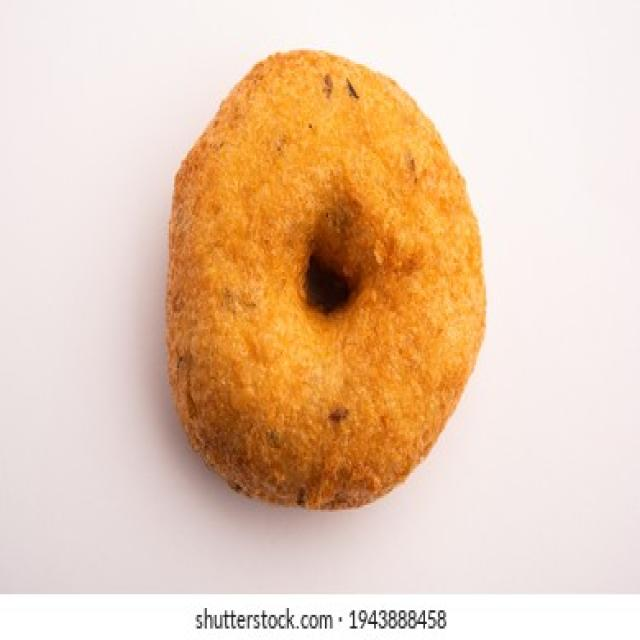MEDU VADA: (165, 43, 496, 509)
